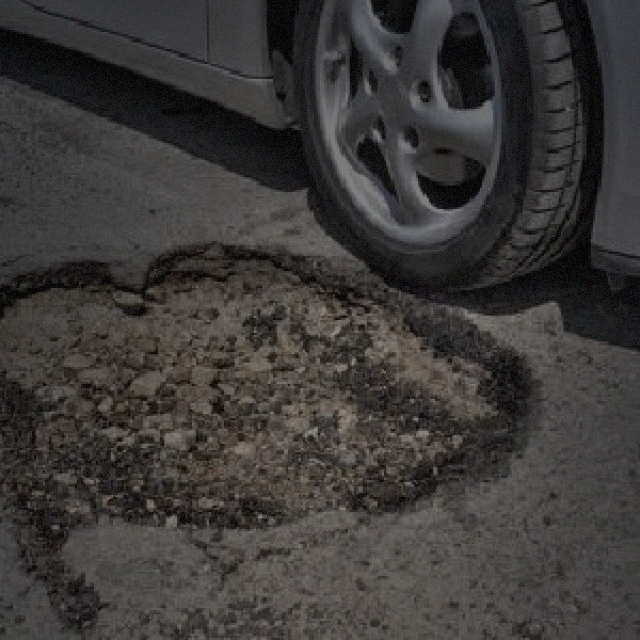pothole: (0, 237, 540, 535)
